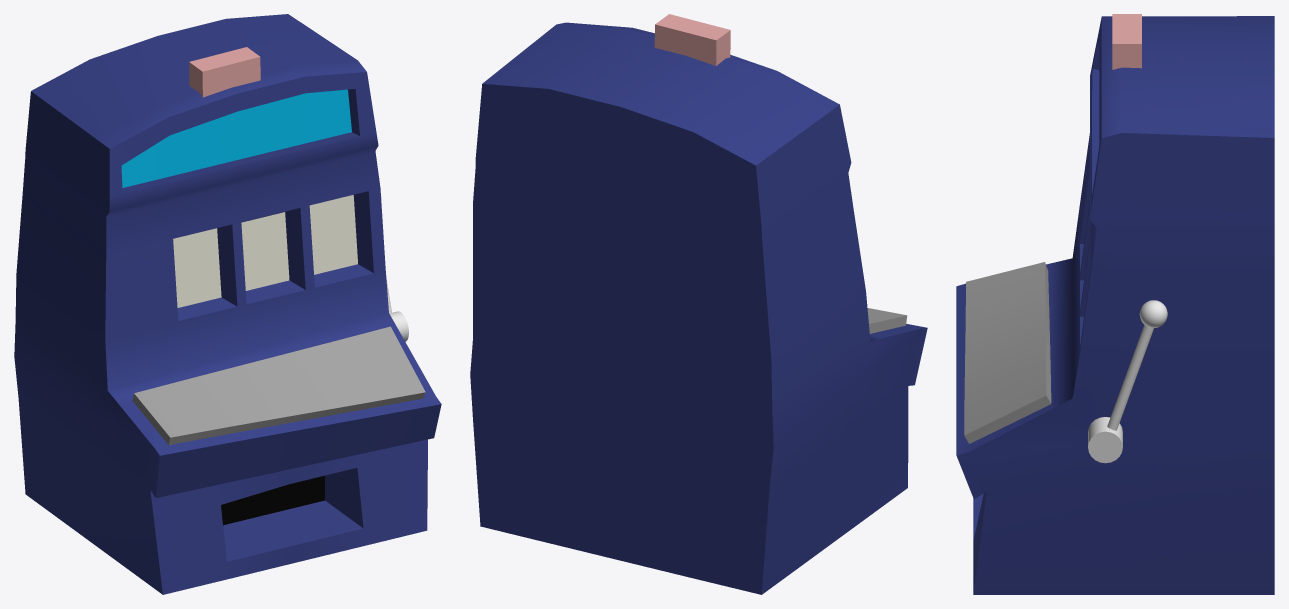
The model's file is slot.fbx.
3 views of the same model, side by side, from view 1: azimuth 30°, elevation 25°; view 2: azimuth 150°, elevation 25°; view 3: azimuth 270°, elevation 25° (orthographic). The views are drawn at different scales.
Parts seen in each view (by area): view 1: pCube28, pCube29; view 2: pCube28, pCube29; view 3: pCube28, polySurface10, pCube29, pCylinder4.
Boxes of the visible parts, x1,y1,x2,y2 form: pCube28: (14,14,441,594); pCube29: (189,47,260,97); pCube28: (470,22,927,594); pCube29: (654,14,730,65); pCube28: (956,16,1274,594); polySurface10: (1107,300,1167,430); pCube29: (1112,14,1141,69); pCylinder4: (1088,417,1122,463).
Bounding box in the file's own units: 12.2 × 17.01 × 9.89.
